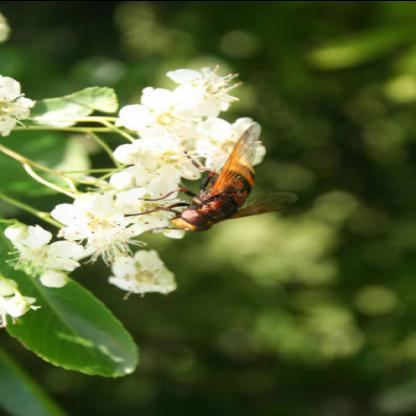asian: (140, 130, 296, 233)
